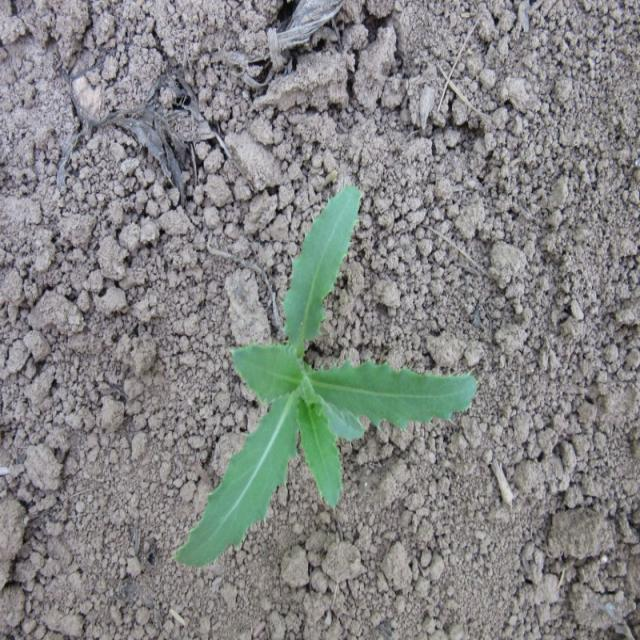field_thistle: (154, 189, 470, 562)
